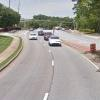Car: (39, 28, 65, 50)
